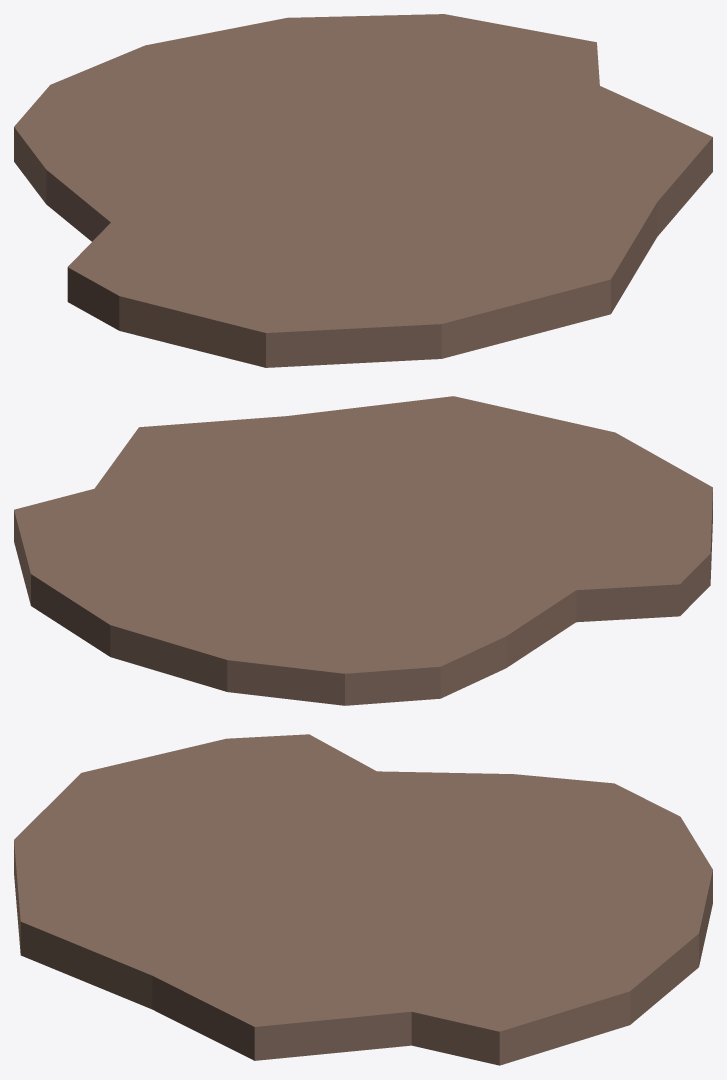
File: SM_island05.fbx
3 renders of one model, top to bottom at view 1: azimuth 30°, elevation 25°; view 2: azimuth 150°, elevation 25°; view 3: azimuth 270°, elevation 25°, orthographic. The views are drawn at different scales.
Visible parts, largest first — view 1: SM_island05; view 2: SM_island05; view 3: SM_island05.
Boxes of the visible parts, x1,y1,x2,y2 form: SM_island05: (14,14,712,367); SM_island05: (14,396,712,705); SM_island05: (14,734,712,1065).
Size of the model in its own units: 2860 by 152 by 2840.
